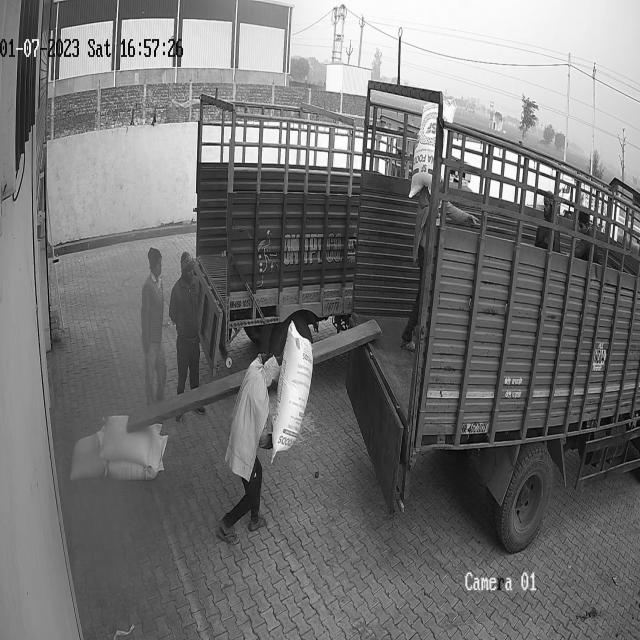sack: (271, 320, 313, 463), (98, 414, 162, 465), (101, 435, 168, 479), (68, 430, 106, 481)
